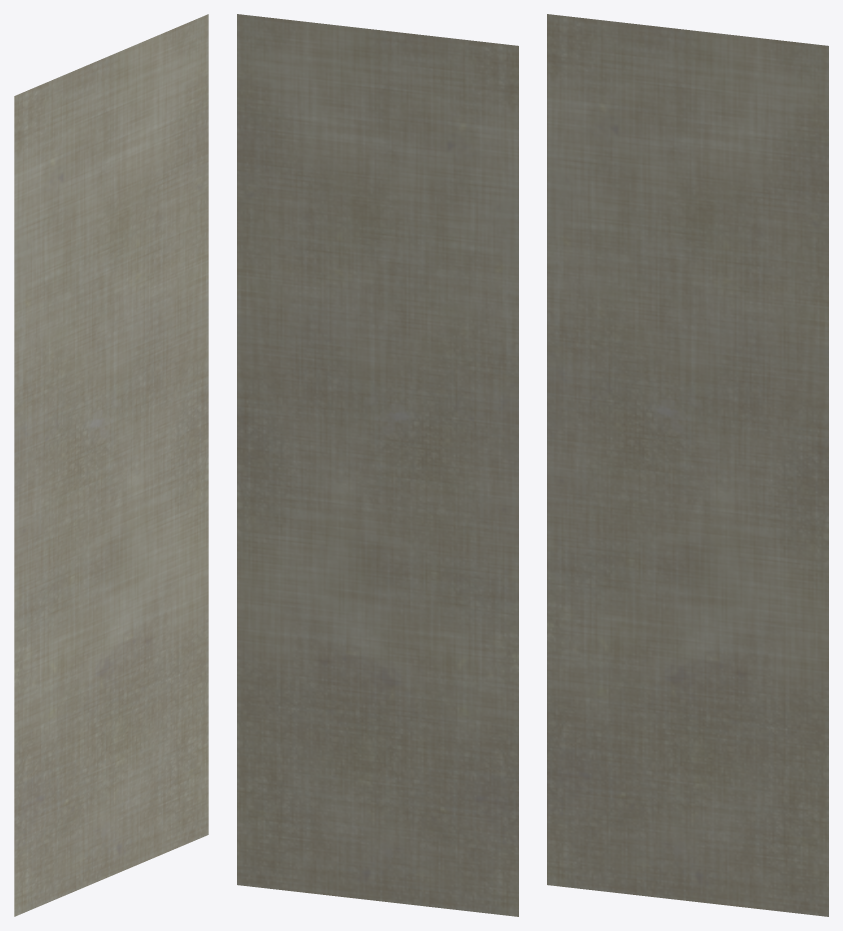
File: TraditionalKoreanHouse_PaperAR.fbx
The picture shows the model from 3 angles, left to right: view 1: azimuth 30°, elevation 25°; view 2: azimuth 150°, elevation 25°; view 3: azimuth 330°, elevation 25°; orthographic projection. The views are drawn at different scales.
Parts seen in each view (by area): view 1: TraditionalKoreanHouse_PaperAR; view 2: TraditionalKoreanHouse_PaperAR; view 3: TraditionalKoreanHouse_PaperAR.
Part boxes in pixels (x1,y1,x2,y2): TraditionalKoreanHouse_PaperAR: (14,14,208,916); TraditionalKoreanHouse_PaperAR: (237,14,518,916); TraditionalKoreanHouse_PaperAR: (547,14,828,916).
Bounding box in the file's own units: 46.98 × 160 × 12.59.
